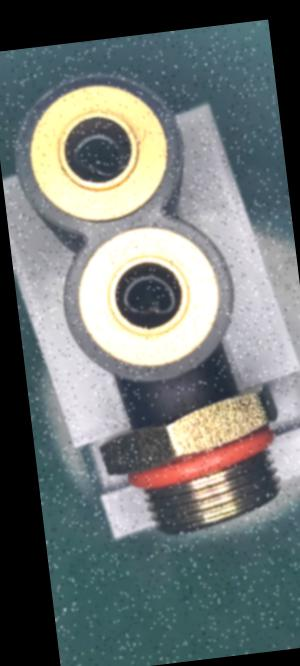joint line: (171, 377, 192, 415)
off-centered: (107, 266, 189, 329), (60, 123, 136, 187)
